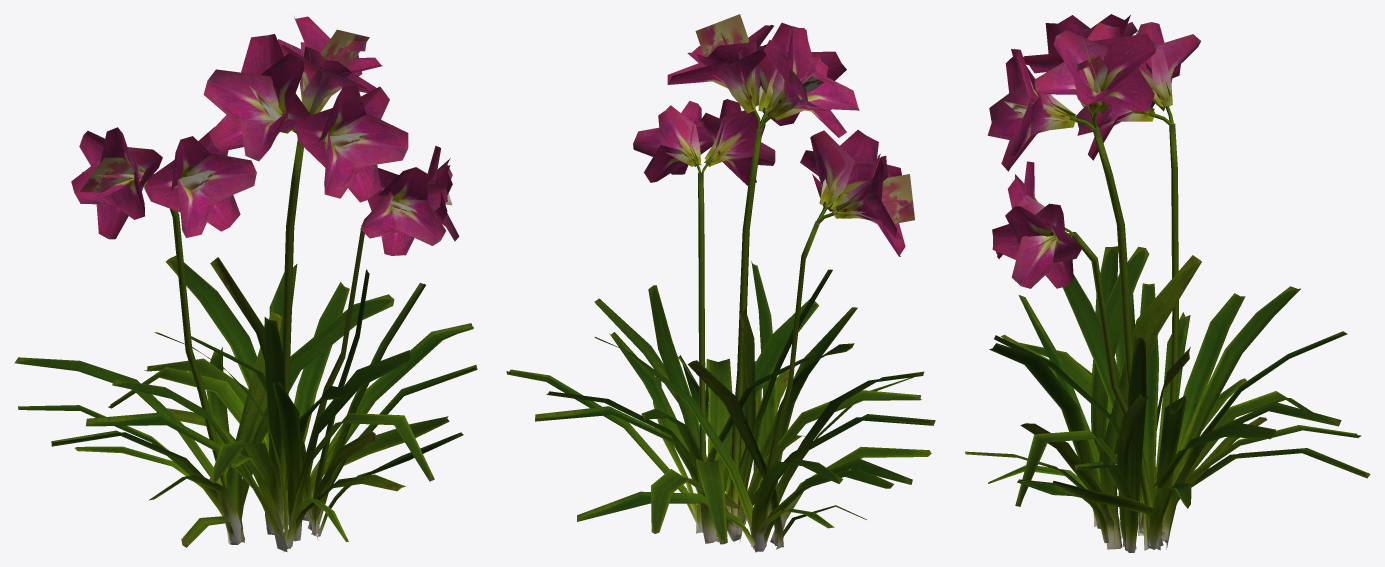
The model's file is Amaryllis_bush_long_pink.glb.
The picture shows the model from 3 angles, left to right: view 1: azimuth 30°, elevation 25°; view 2: azimuth 150°, elevation 25°; view 3: azimuth 270°, elevation 25°; orthographic projection. The views are drawn at different scales.
Visible parts, largest first — view 1: bush; view 2: bush; view 3: bush.
Boxes of the visible parts, <box> form: bush: <box>14,16,477,552</box>; bush: <box>506,14,935,552</box>; bush: <box>965,14,1370,552</box>.
Bounding box in the file's own units: 2.94 × 3.42 × 2.41.
Materials: 1 (1 with a texture image).
